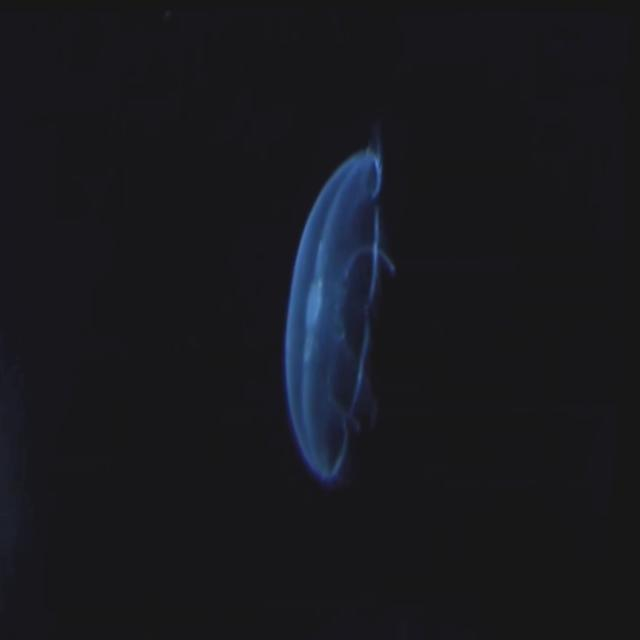Moon-jellyfish: (281, 127, 397, 489)
